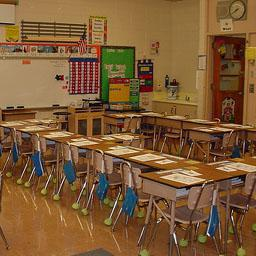Puerta: (212, 36, 245, 125)
